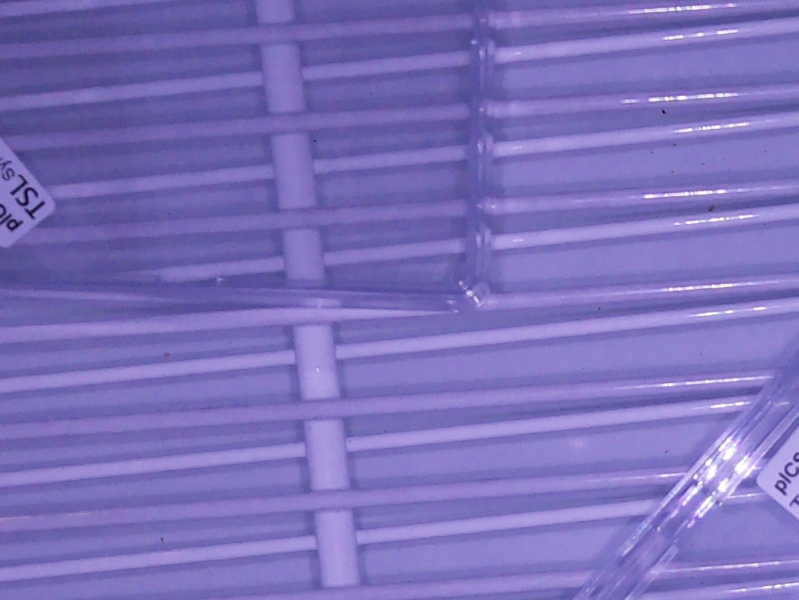plate: (1, 1, 501, 315), (578, 349, 799, 600)
